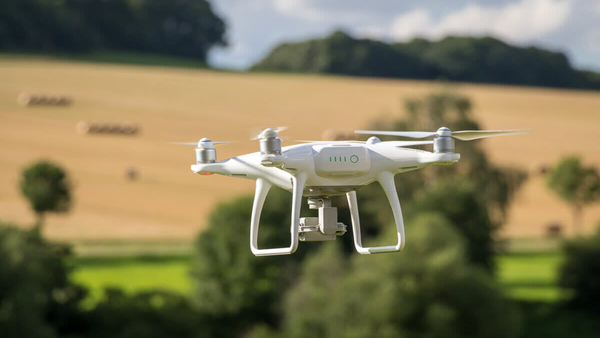drone: (168, 124, 532, 261)
